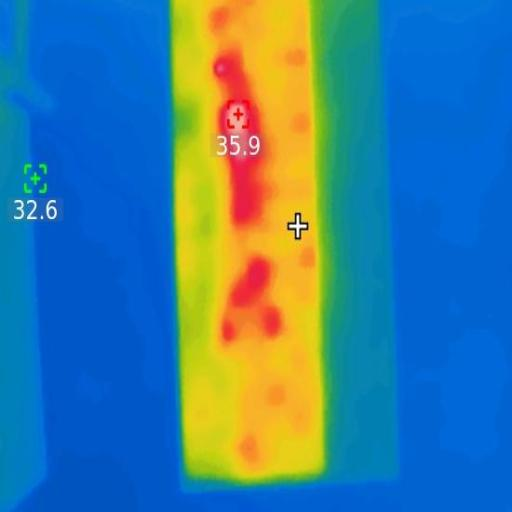hotspot: (219, 105, 267, 215), (260, 300, 278, 338), (246, 263, 263, 298), (224, 315, 234, 343), (213, 61, 225, 77)
